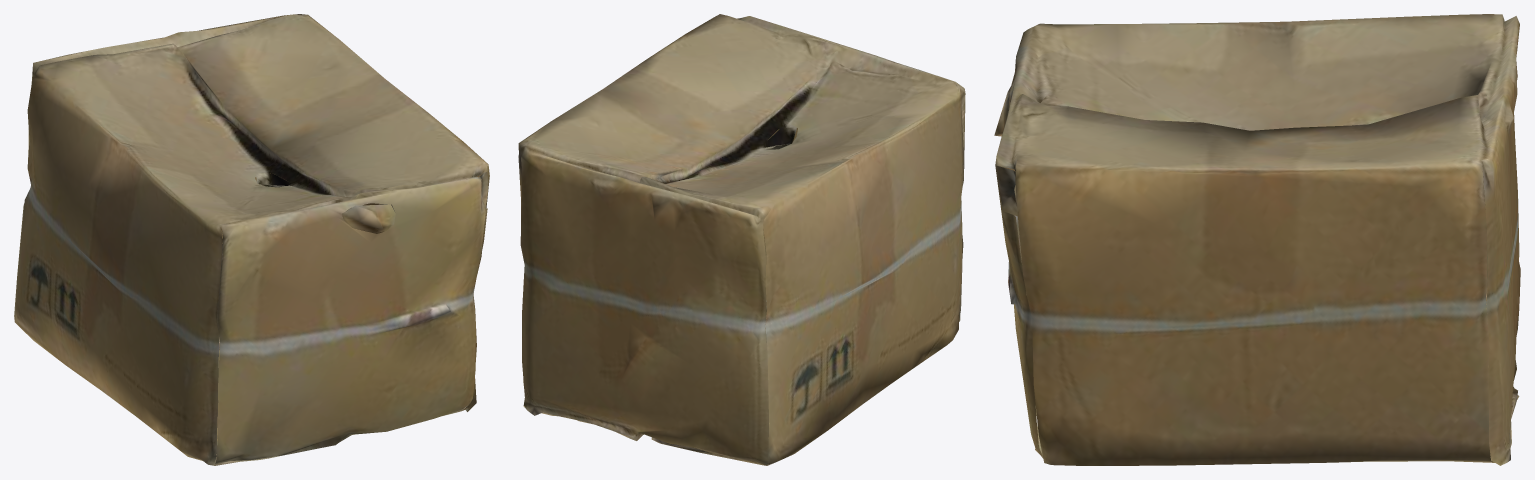
File: cardboard_box.glb
3 views of the same model, side by side, from view 1: azimuth 30°, elevation 25°; view 2: azimuth 150°, elevation 25°; view 3: azimuth 270°, elevation 25° (orthographic). The views are drawn at different scales.
Parts seen in each view (by area): view 1: cardboard_box; view 2: cardboard_box; view 3: cardboard_box.
Part boxes in pixels (x1,y1,x2,y2): cardboard_box: (14,14,489,465); cardboard_box: (518,14,965,465); cardboard_box: (994,14,1520,465).
Size of the model in its own units: 0.3872 by 0.3403 by 0.5149.
1 material, 1 textured.
